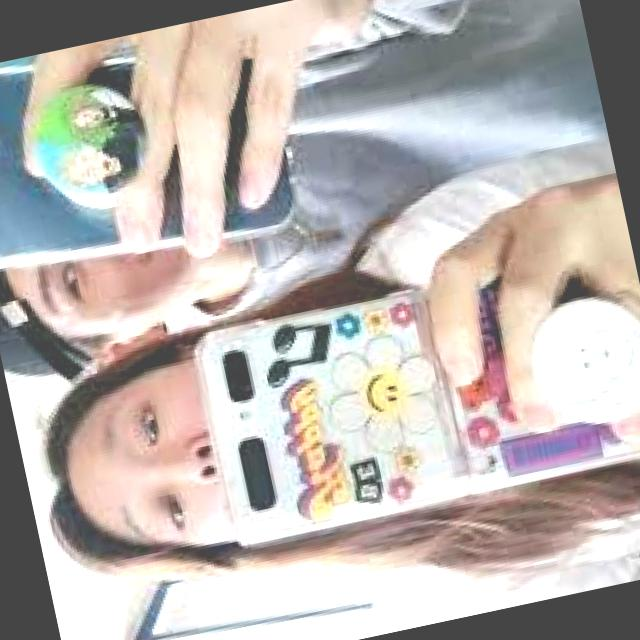phone: (184, 236, 640, 545), (0, 9, 300, 291)
